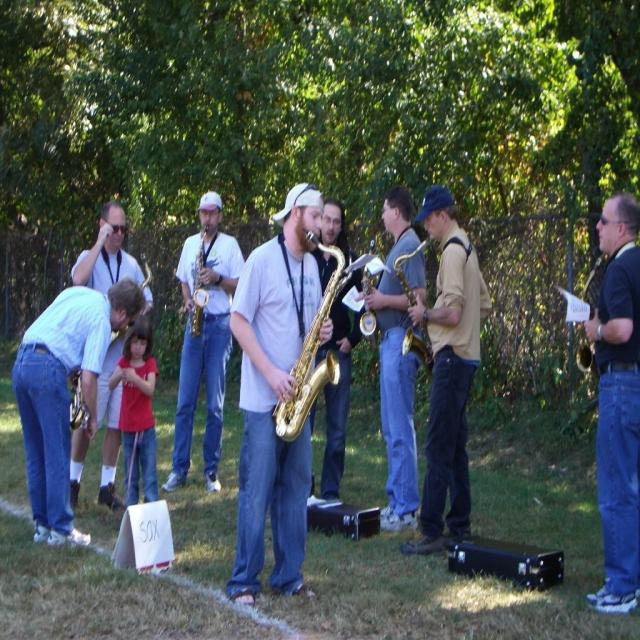saxophone: (270, 226, 346, 444), (391, 236, 436, 373), (189, 224, 215, 338), (359, 240, 382, 348), (574, 339, 598, 380), (138, 250, 156, 290)
